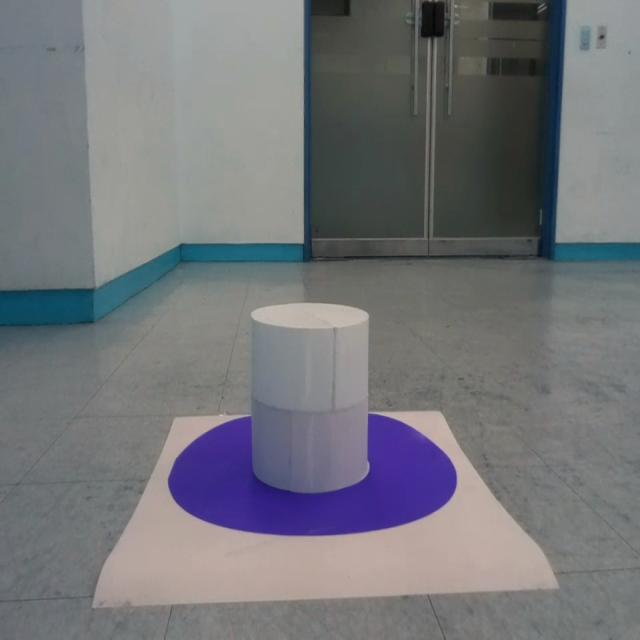cylinder: (250, 302, 371, 493)
